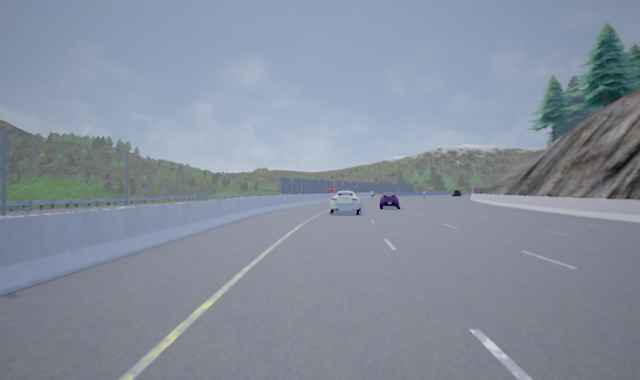vehicle: (328, 190, 361, 215), (379, 193, 400, 211)
